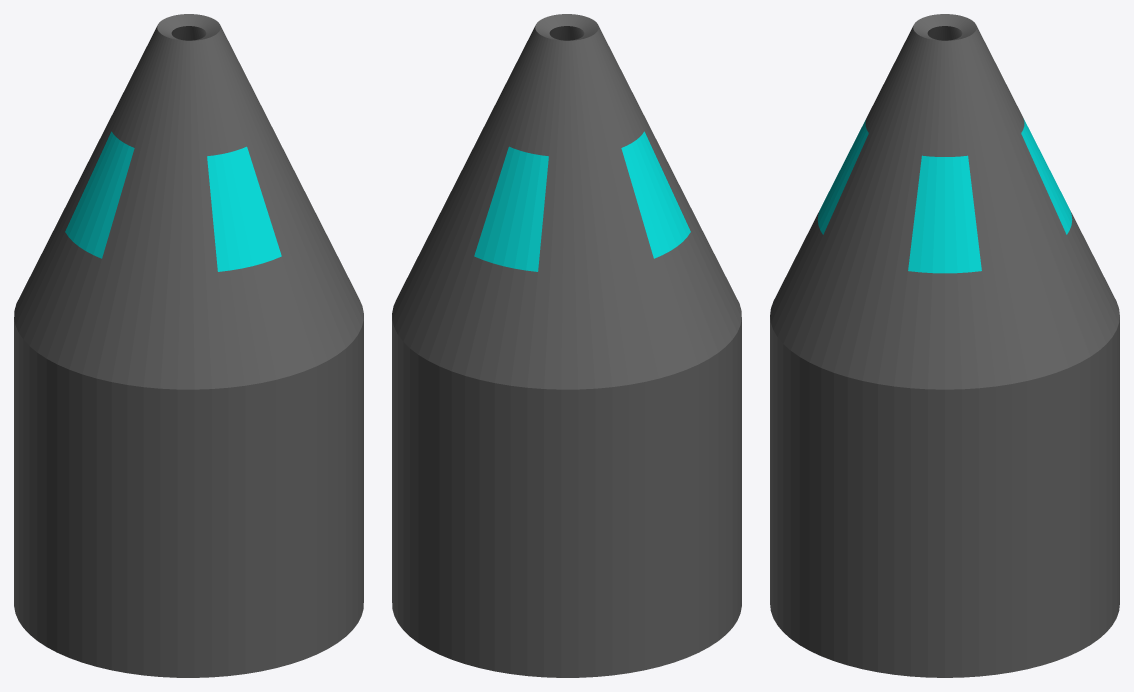
The picture shows the model from 3 angles, left to right: view 1: azimuth 30°, elevation 25°; view 2: azimuth 150°, elevation 25°; view 3: azimuth 270°, elevation 25°; orthographic projection.
Parts seen in each view (by area): view 1: BodyMerged, Windows; view 2: BodyMerged, Windows; view 3: BodyMerged, Windows.
Part boxes in pixels (bbox=[...]): BodyMerged: bbox=[14, 14, 363, 677]; Windows: bbox=[65, 131, 281, 271]; BodyMerged: bbox=[392, 14, 741, 677]; Windows: bbox=[474, 131, 690, 271]; BodyMerged: bbox=[770, 14, 1119, 677]; Windows: bbox=[817, 118, 1072, 273].
Bounding box in the file's own units: 220 × 400 × 220.
